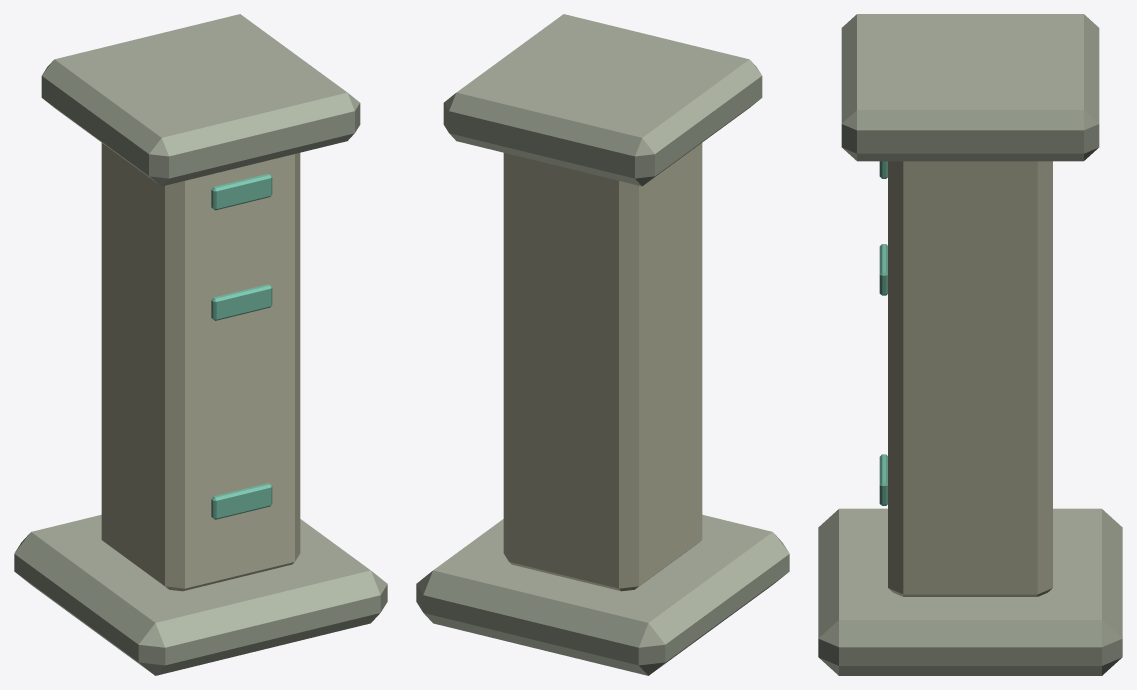
Rendered from qingqiu-pillar.glb.
The picture shows the model from 3 angles, left to right: view 1: azimuth 30°, elevation 25°; view 2: azimuth 150°, elevation 25°; view 3: azimuth 270°, elevation 25°; orthographic projection. The views are drawn at different scales.
Visible parts, largest first — view 1: qingqiu-pillar; view 2: qingqiu-pillar; view 3: qingqiu-pillar.
Boxes of the visible parts, <box> form: qingqiu-pillar: <box>14,14,387,675</box>; qingqiu-pillar: <box>416,14,789,675</box>; qingqiu-pillar: <box>818,14,1122,675</box>.
Size of the model in its own units: 1.18 by 2.39 by 1.18.
